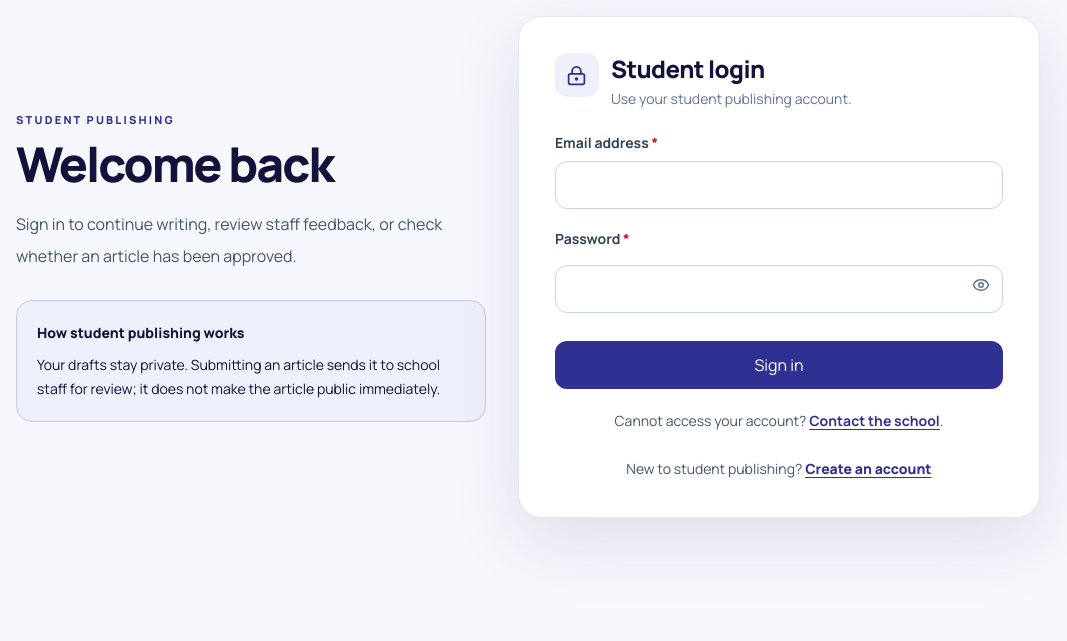
Test case: student Better Auth forms › uses Better Auth email login and keeps authentication failures generic
Type "student@example.com" into the field labelled "Email address *". click: (779, 185)
box: x1=555 y1=161 x2=1003 y2=209
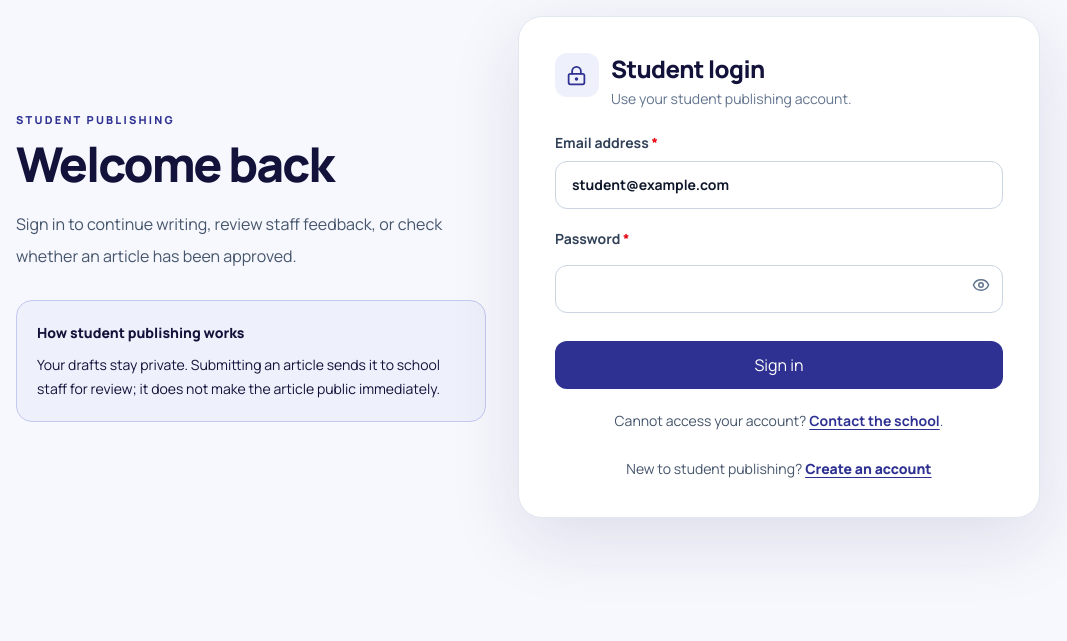
Type "not-the-password" into the password field labelled "Password *". click: (779, 289)
box: x1=555 y1=265 x2=1003 y2=313
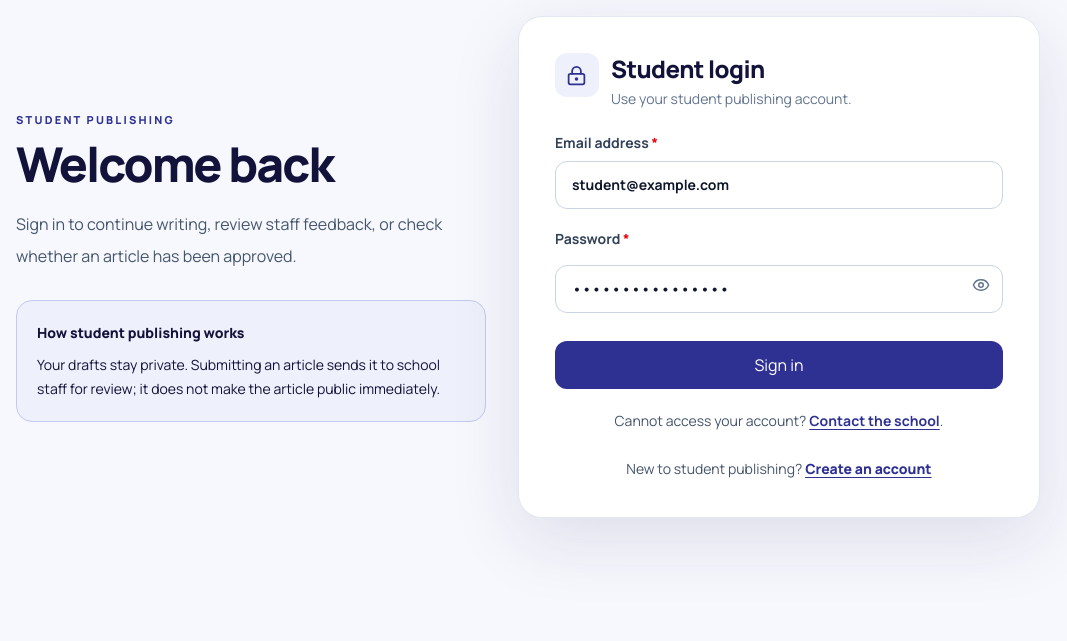
Click the button "Sign in". click: (779, 365)
box: x1=555 y1=341 x2=1003 y2=389
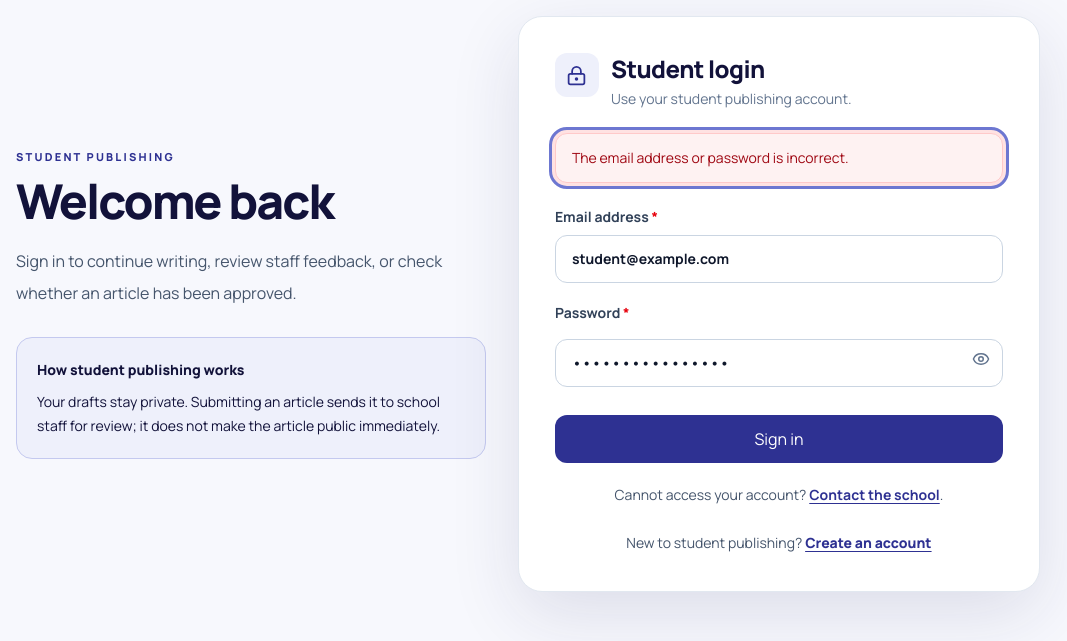
Now the message reads "The email address or password is incorrect.", box x1=572 y1=148 x2=849 y2=167
